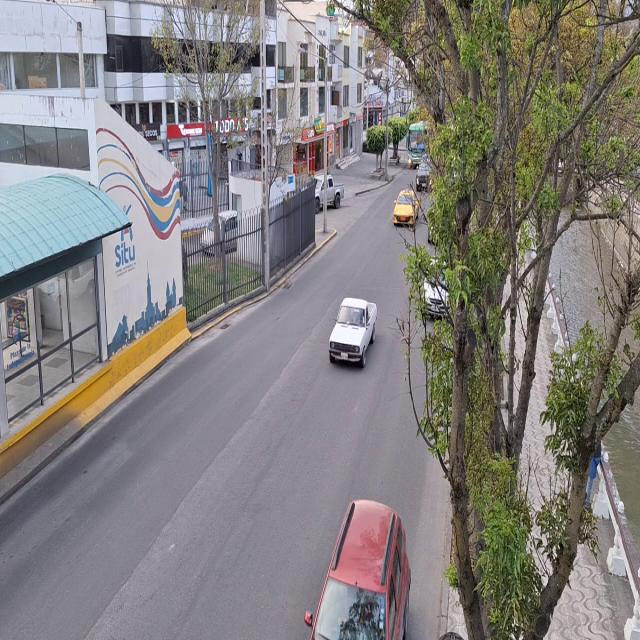CMT: (330, 302, 378, 366)
